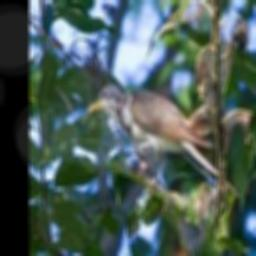Cuckoo: (88, 84, 242, 201)
